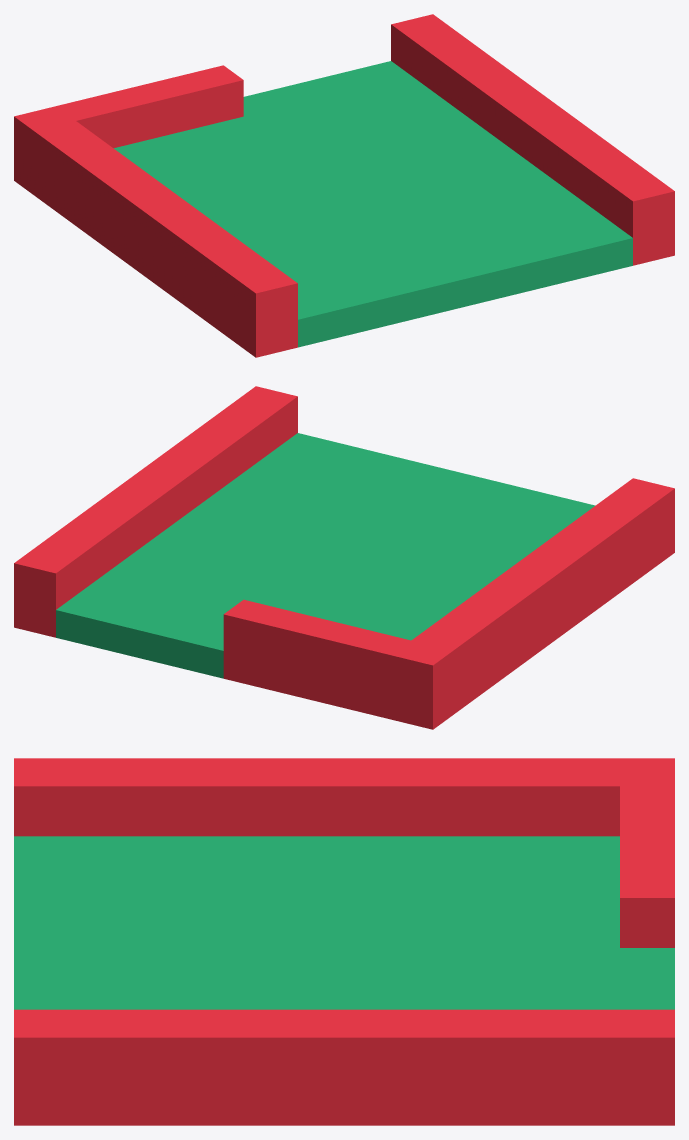
The model's file is wallRight.fbx.
3 views of the same model, one above another, from view 1: azimuth 30°, elevation 25°; view 2: azimuth 150°, elevation 25°; view 3: azimuth 270°, elevation 25° (orthographic). The views are drawn at different scales.
Parts seen in each view (by area): view 1: wallRight; view 2: wallRight; view 3: wallRight.
Part boxes in pixels (x1,y1,x2,y2): wallRight: [14, 14, 674, 357]; wallRight: [14, 386, 674, 729]; wallRight: [14, 758, 674, 1125].
Bounding box in the file's own units: 10 × 1.47 × 10.
